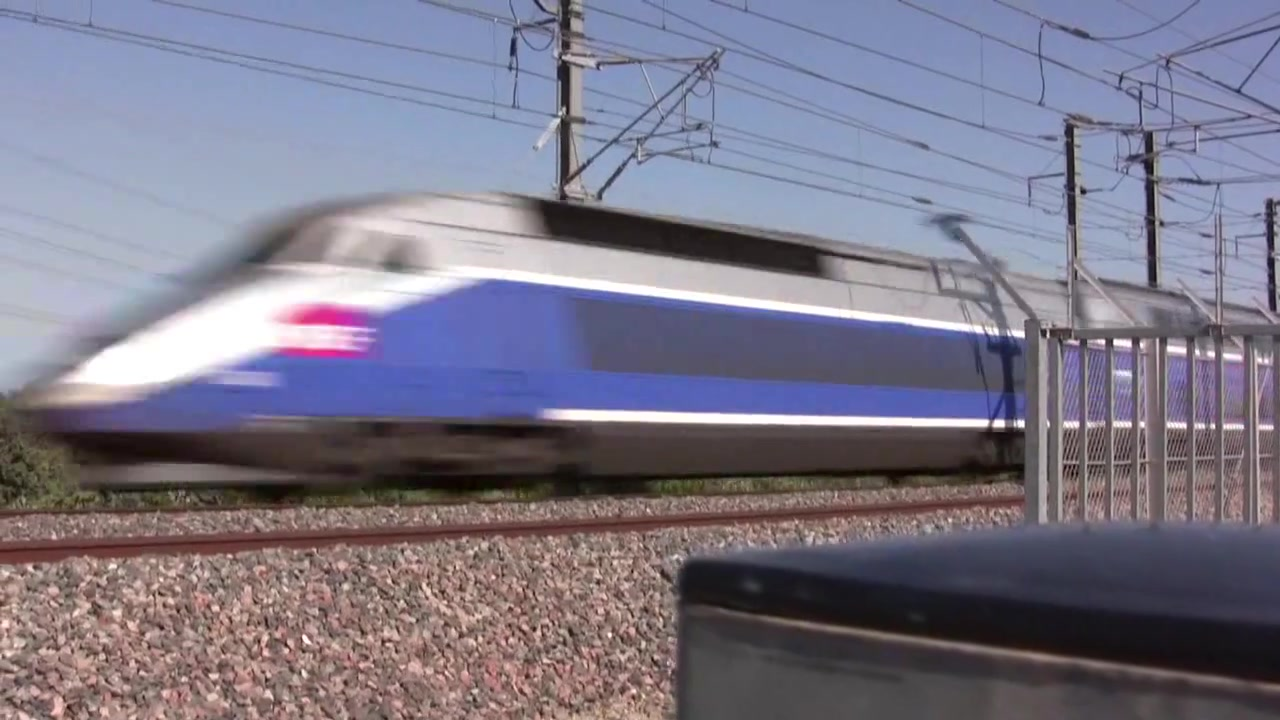train: (13, 187, 1280, 486)
